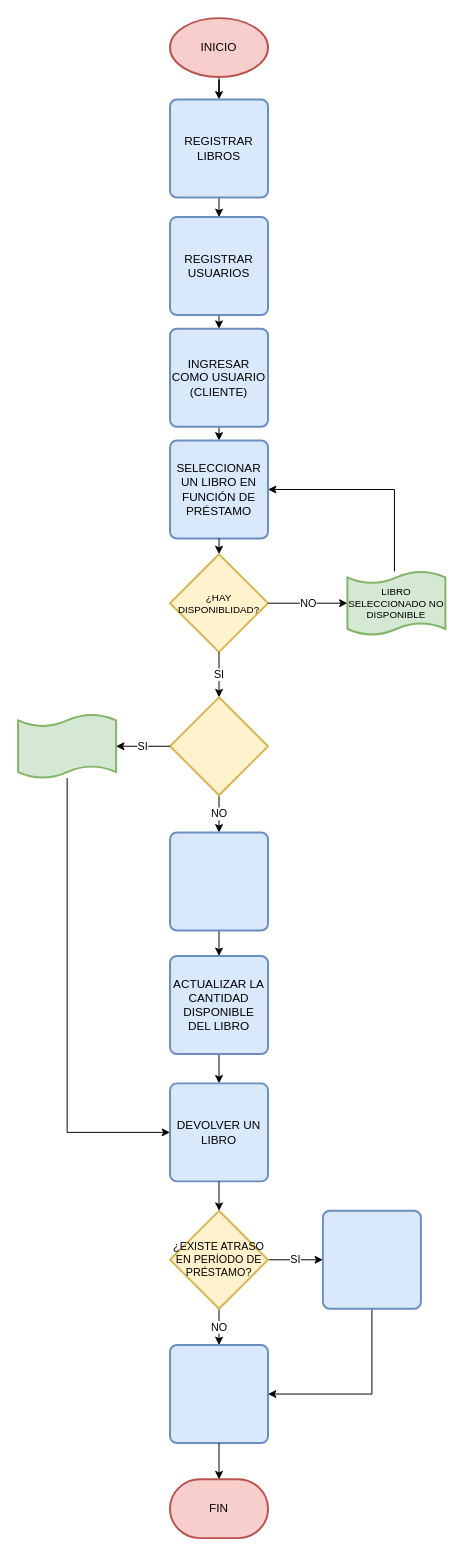
The diagram is 463 pixels wide and 1555 high, and some of its shapes have lost their labels. Here are the shapes that lost their labels. From the top down, the centre of each, then its label:
At [67,746]: "EL USUARIO TIENE PRÉSTAMOS PENDIENTES".
At [219,746]: "¿EL USUARIO TIENE PRÉSTAMOS PENDIENTES?".
At [219,881]: "REGISTRAR EN TRANSACCIÓN DE PRÉSTAMO".
At [371,1259]: "CALCULAR MULTAS POR PERÍODO EXTRAORDINARIO".
At [219,1394]: "REGISTRAR TRANSACCIÓN Y ACTUALIZAR CANTIDAD DISPONIBLE DE LIBROS".
